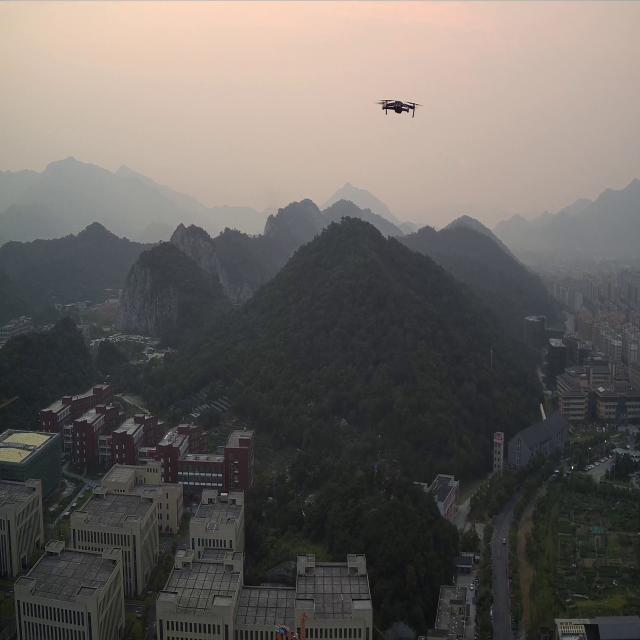UAV: (375, 96, 420, 119)
